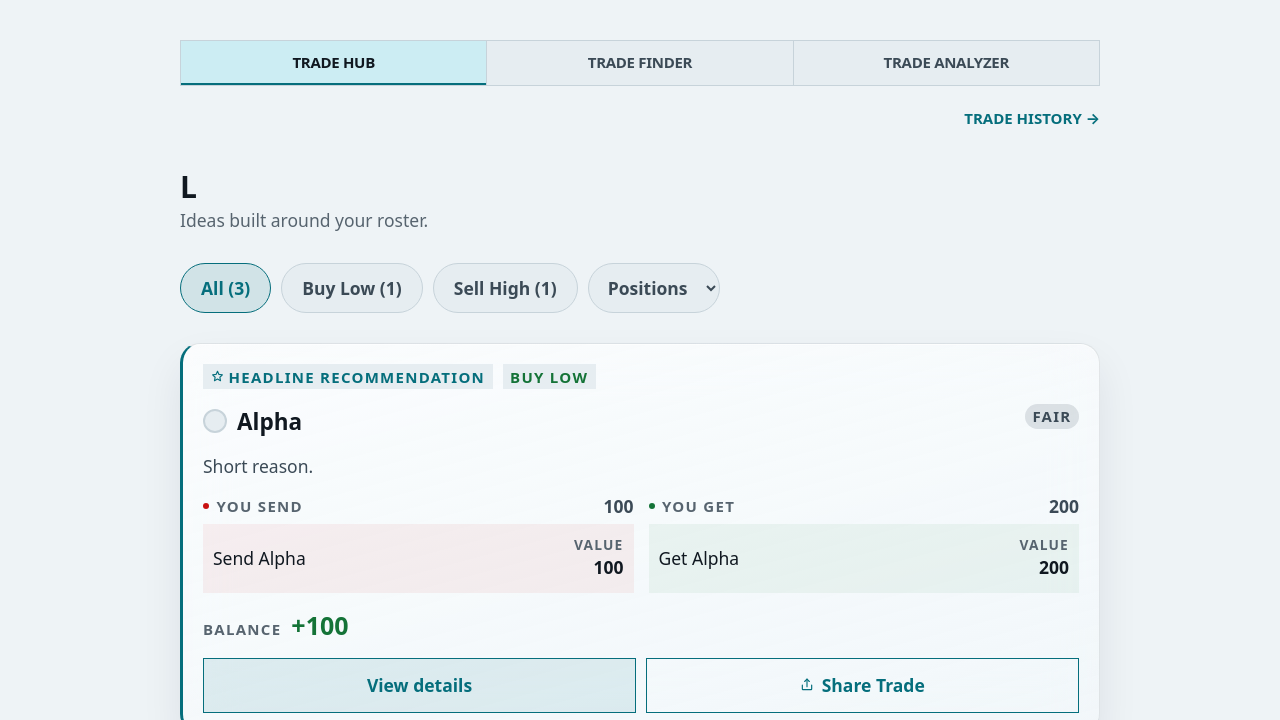
Test: TradeHubContent filtering and states › offers a way back when filters match nothing
Click the button "Sell High (1)" at (505, 288), box [433, 263, 578, 313]
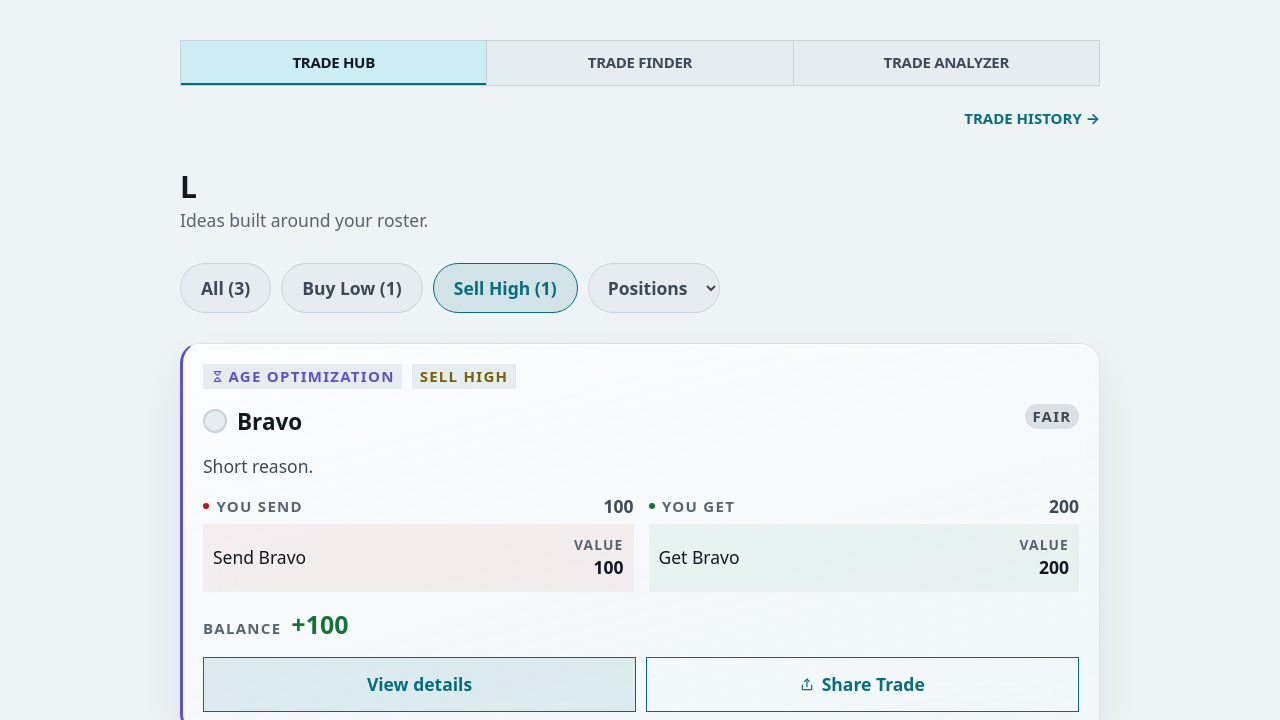
Select "QB" in the dropdown named "Positions" at (654, 288), box [588, 263, 720, 313]
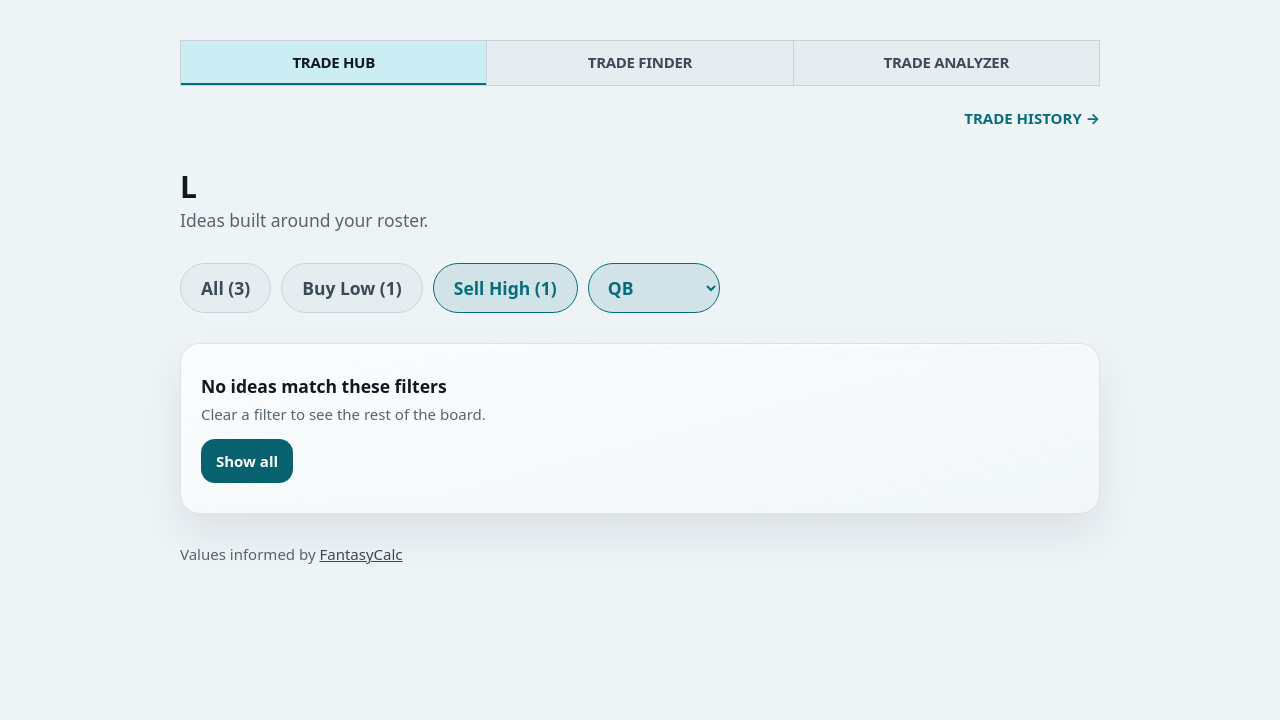
Result: the text "No ideas match these filters" is shown at [201, 374, 447, 399]
Click the button "Show all" at (247, 461), box [201, 439, 293, 483]
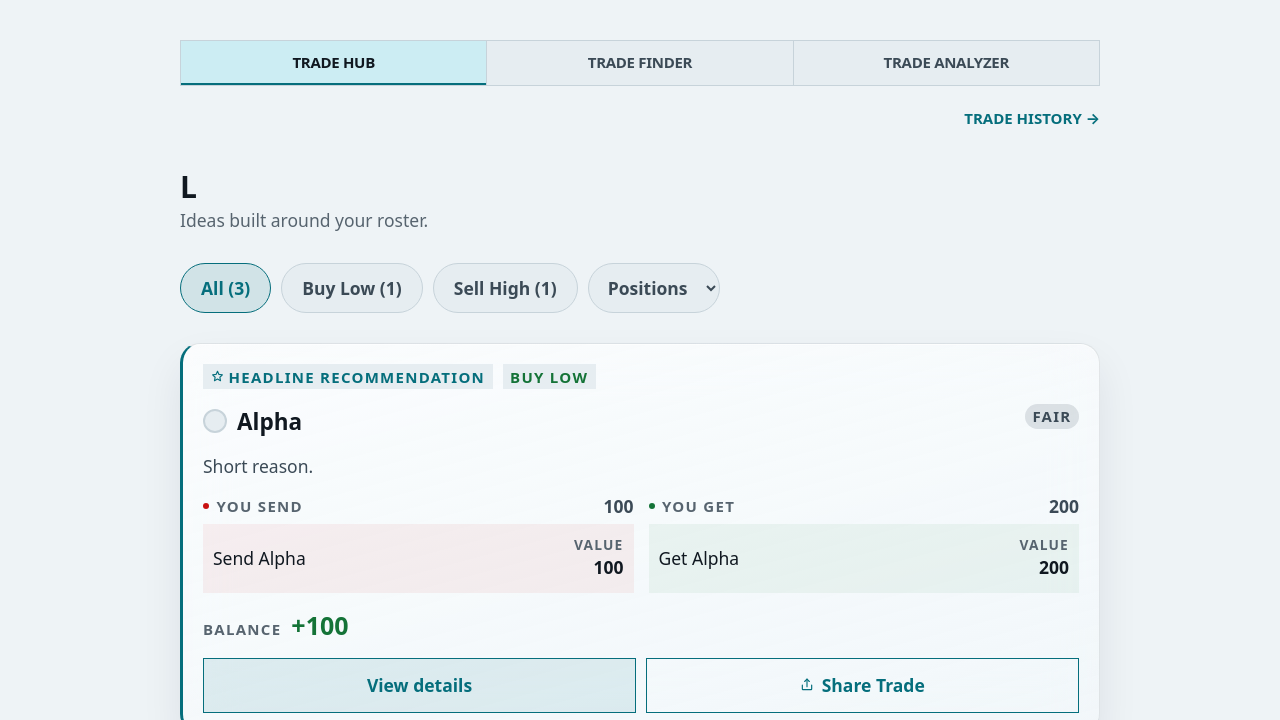
Result: the heading "Alpha" is shown at [237, 404, 302, 439]
